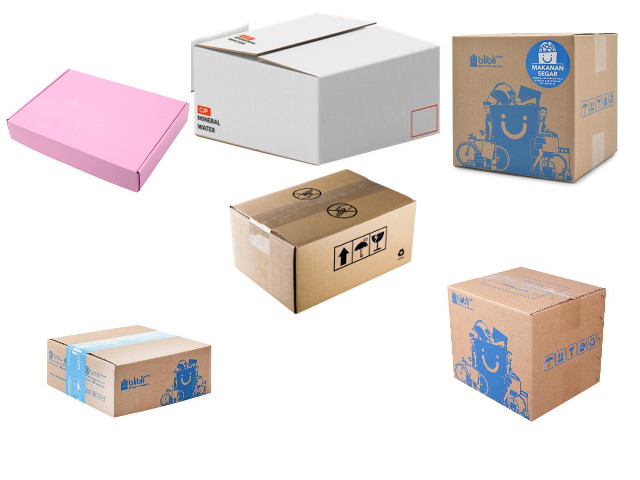cardboard: (194, 12, 438, 165), (228, 168, 416, 312), (450, 32, 614, 181), (450, 266, 605, 421), (5, 67, 189, 188), (47, 324, 211, 418)
